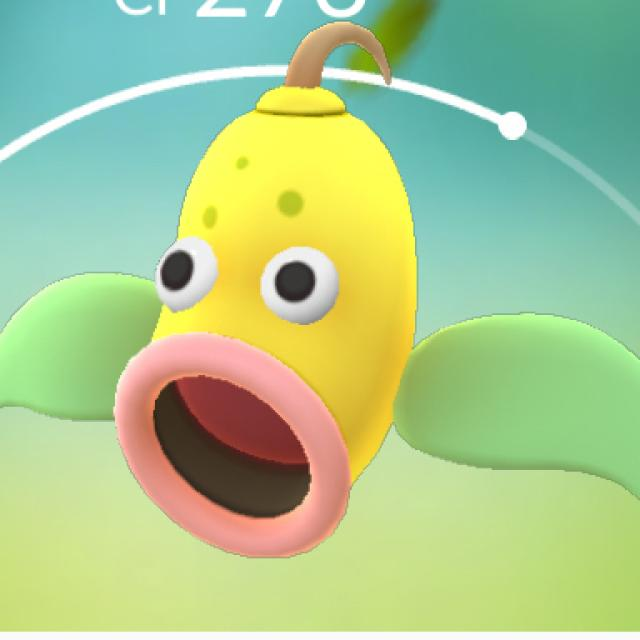Weepinbell: (0, 25, 640, 548)
